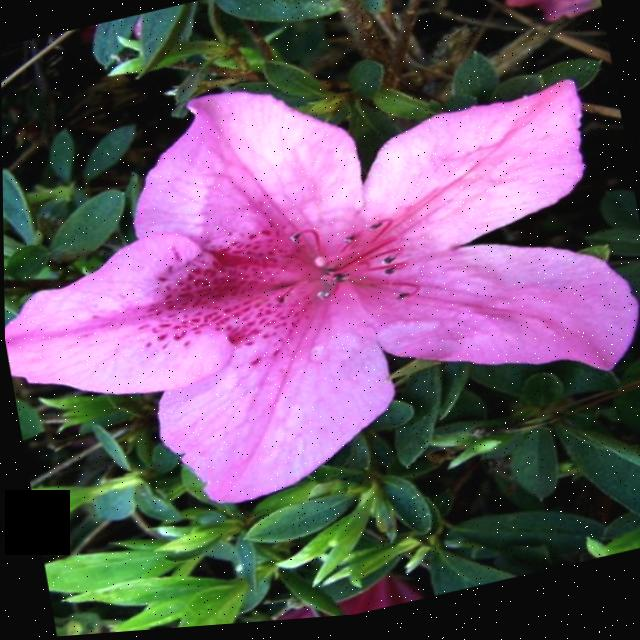azalea: (0, 5, 640, 544)
